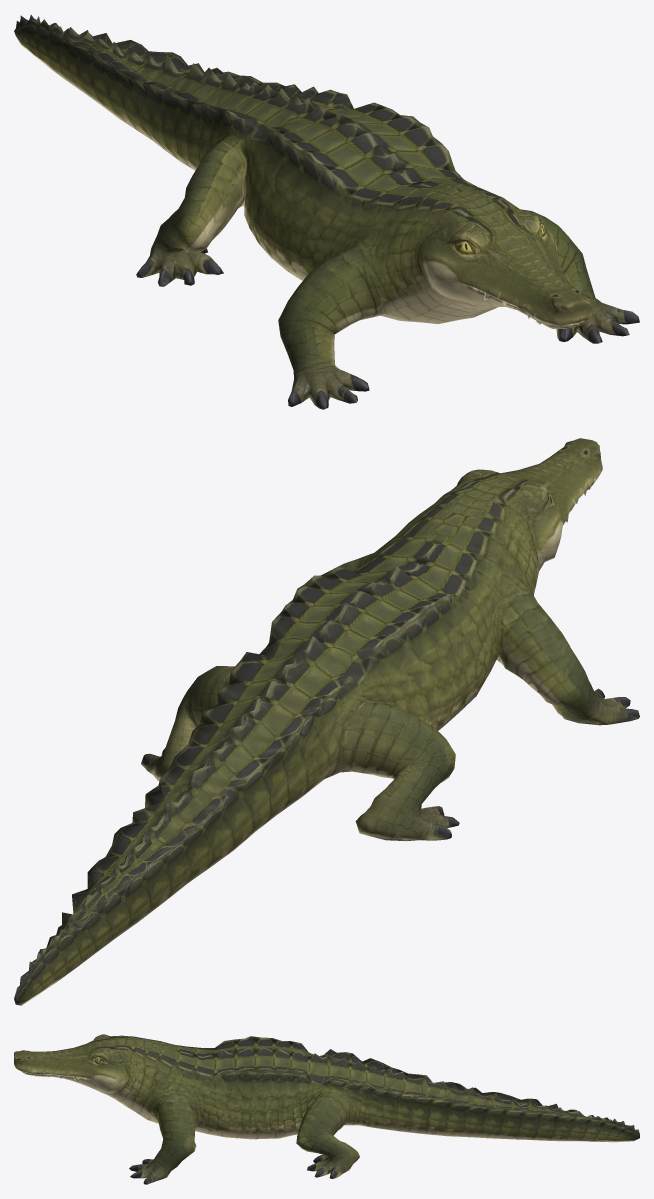
File: Meshy_AI_Armored_Alligator_1026212352_texture.glb
The picture shows the model from 3 angles, top to bottom: view 1: azimuth 30°, elevation 25°; view 2: azimuth 150°, elevation 25°; view 3: azimuth 270°, elevation 25°; orthographic projection. The views are drawn at different scales.
Size of the model in its own units: 2.02 by 1 by 5.69.
1 material, 1 textured.
